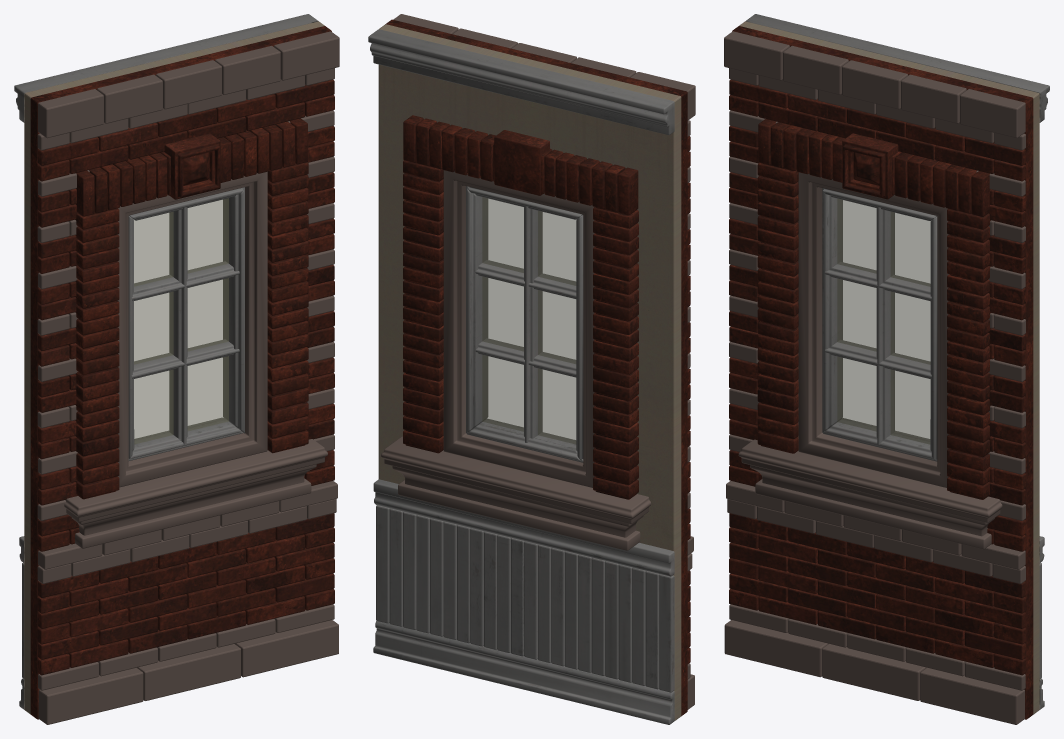
Rendered from SK4 WINDOW 1 SHORT.fbx.
The picture shows the model from 3 angles, left to right: view 1: azimuth 30°, elevation 25°; view 2: azimuth 150°, elevation 25°; view 3: azimuth 330°, elevation 25°; orthographic projection.
Visible parts, largest first — view 1: SK4 WINDOW 1 SHORT; view 2: SK4 WINDOW 1 SHORT; view 3: SK4 WINDOW 1 SHORT.
Boxes of the visible parts, x1,y1,x2,y2 form: SK4 WINDOW 1 SHORT: (14, 14, 339, 724); SK4 WINDOW 1 SHORT: (368, 14, 695, 724); SK4 WINDOW 1 SHORT: (724, 14, 1049, 724).
Size of the model in its own units: 200 by 400 by 57.36.
